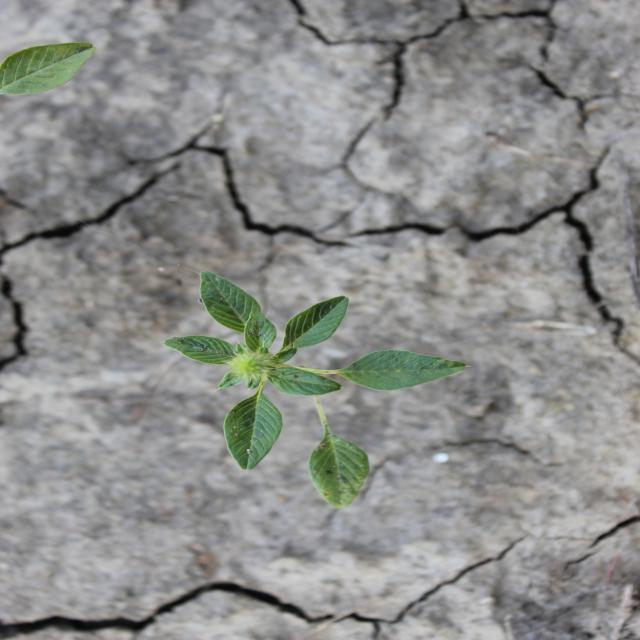PalmerAmaranth: (161, 271, 475, 511)
